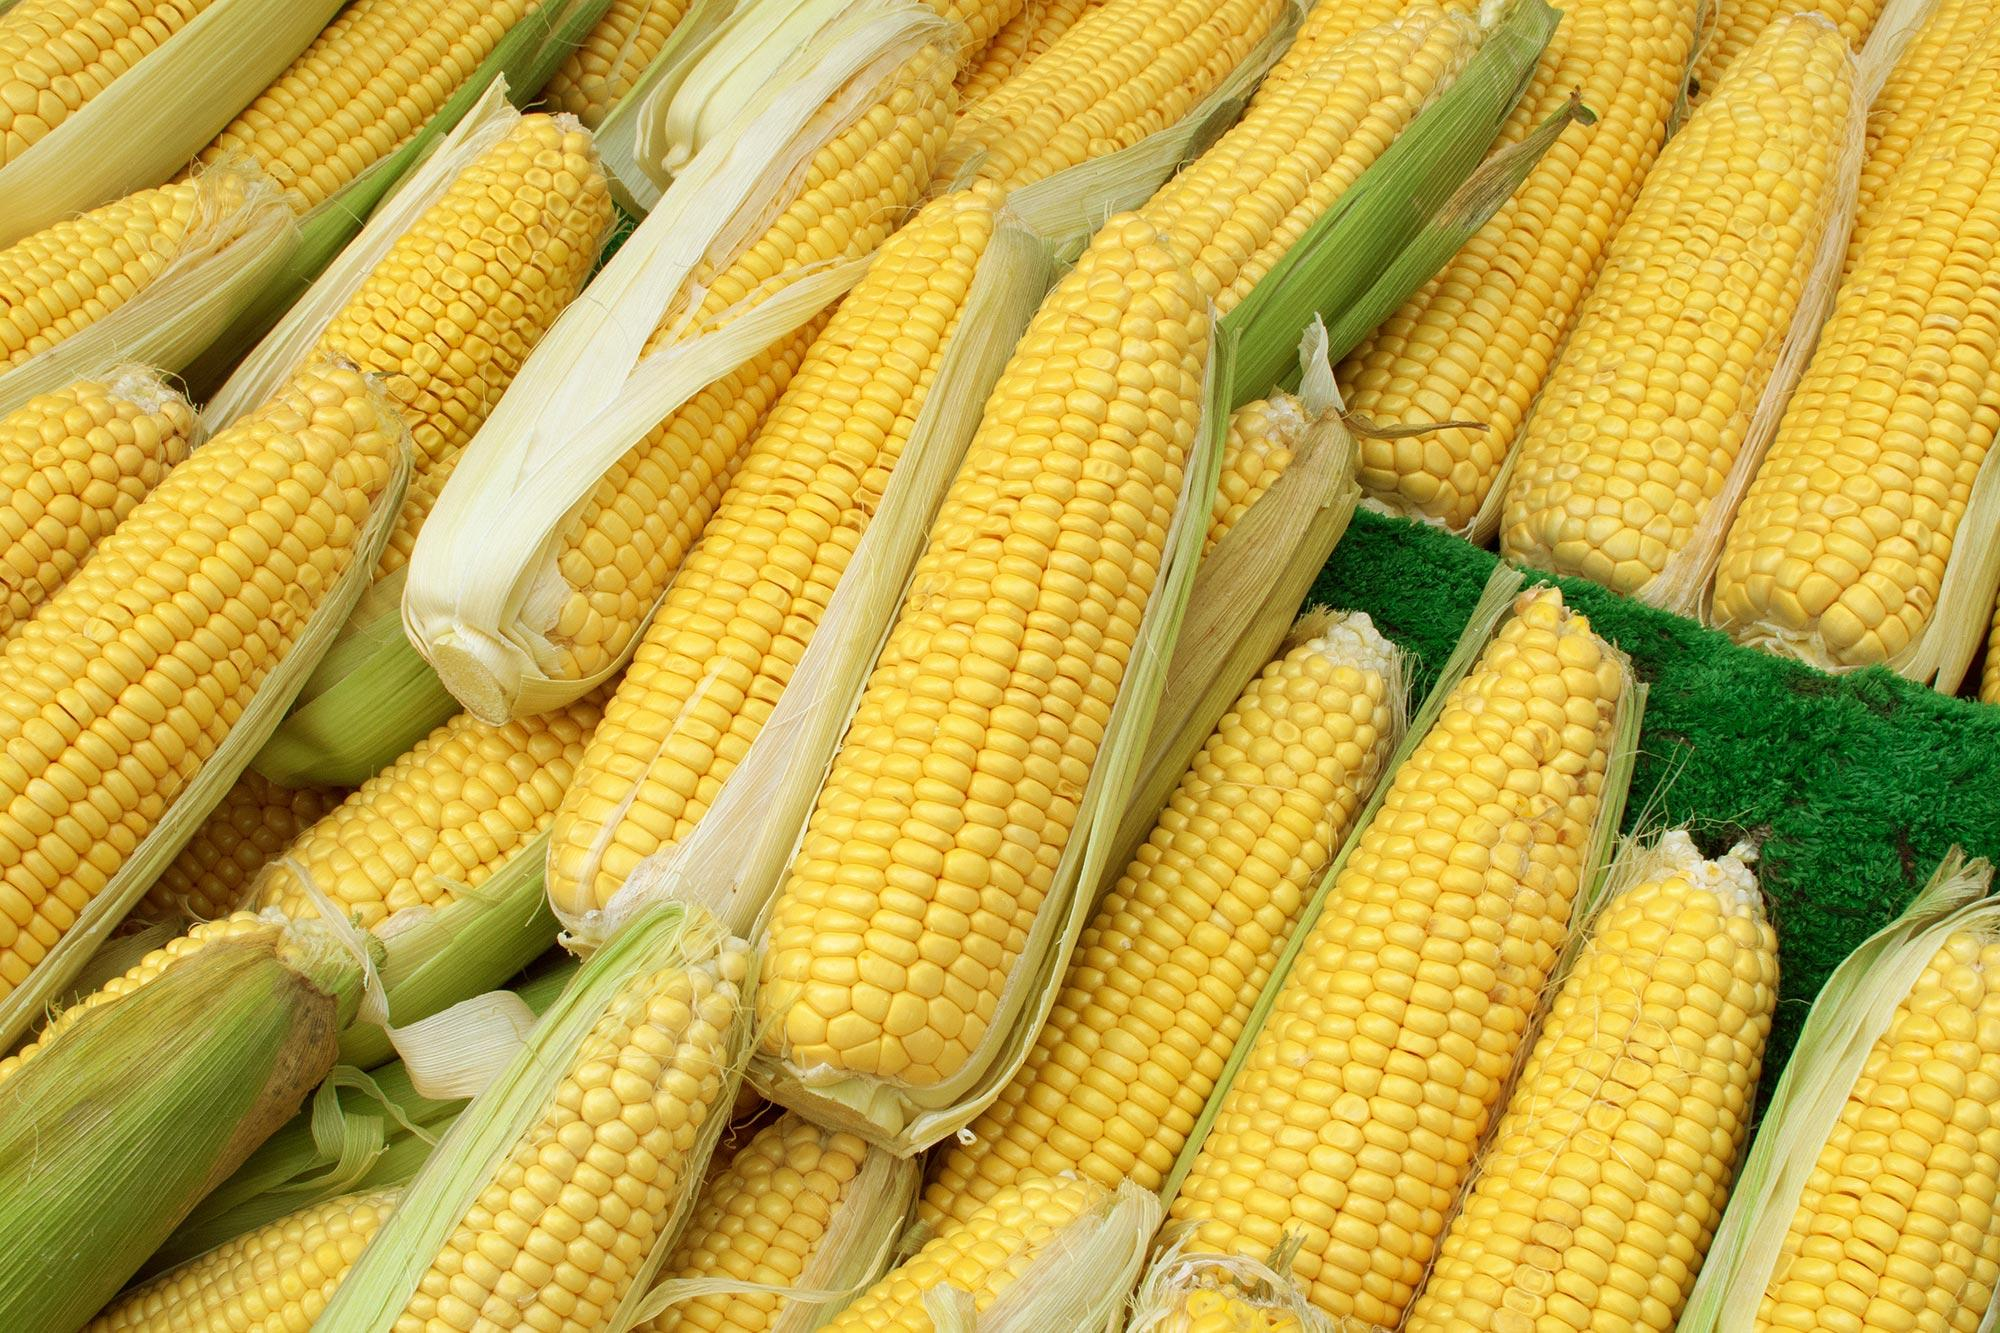sweetcorn: (4, 1, 1991, 1329), (743, 1, 1590, 1132), (541, 0, 1295, 952), (1, 82, 616, 1003), (743, 207, 1230, 1098), (819, 603, 1413, 1329), (399, 0, 967, 726), (1, 698, 604, 1329), (1136, 582, 1630, 1329), (541, 177, 1007, 943), (1, 347, 412, 1003), (1494, 9, 1862, 608), (1329, 0, 1714, 542), (1706, 0, 1997, 681), (306, 899, 757, 1329), (1399, 823, 1780, 1330), (1, 899, 369, 1329), (306, 89, 617, 574), (1752, 918, 1997, 1329)
